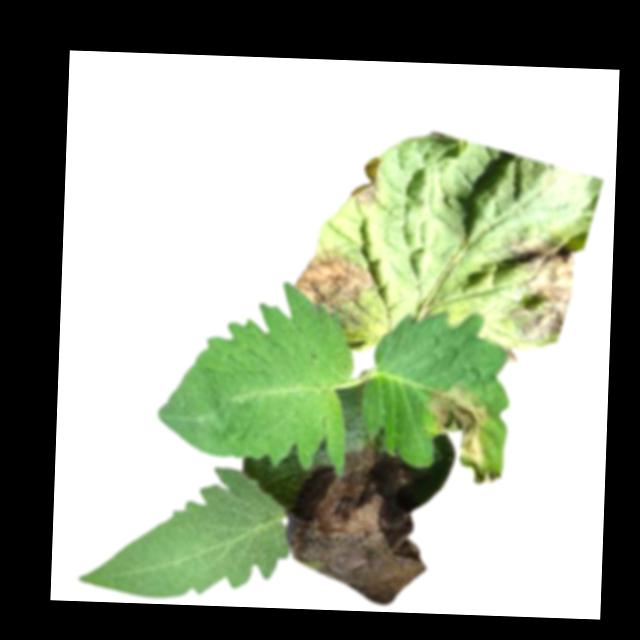Late_blight: (285, 442, 430, 606), (494, 233, 577, 349), (422, 380, 505, 488), (290, 244, 374, 319), (351, 158, 380, 207), (504, 348, 518, 364)
